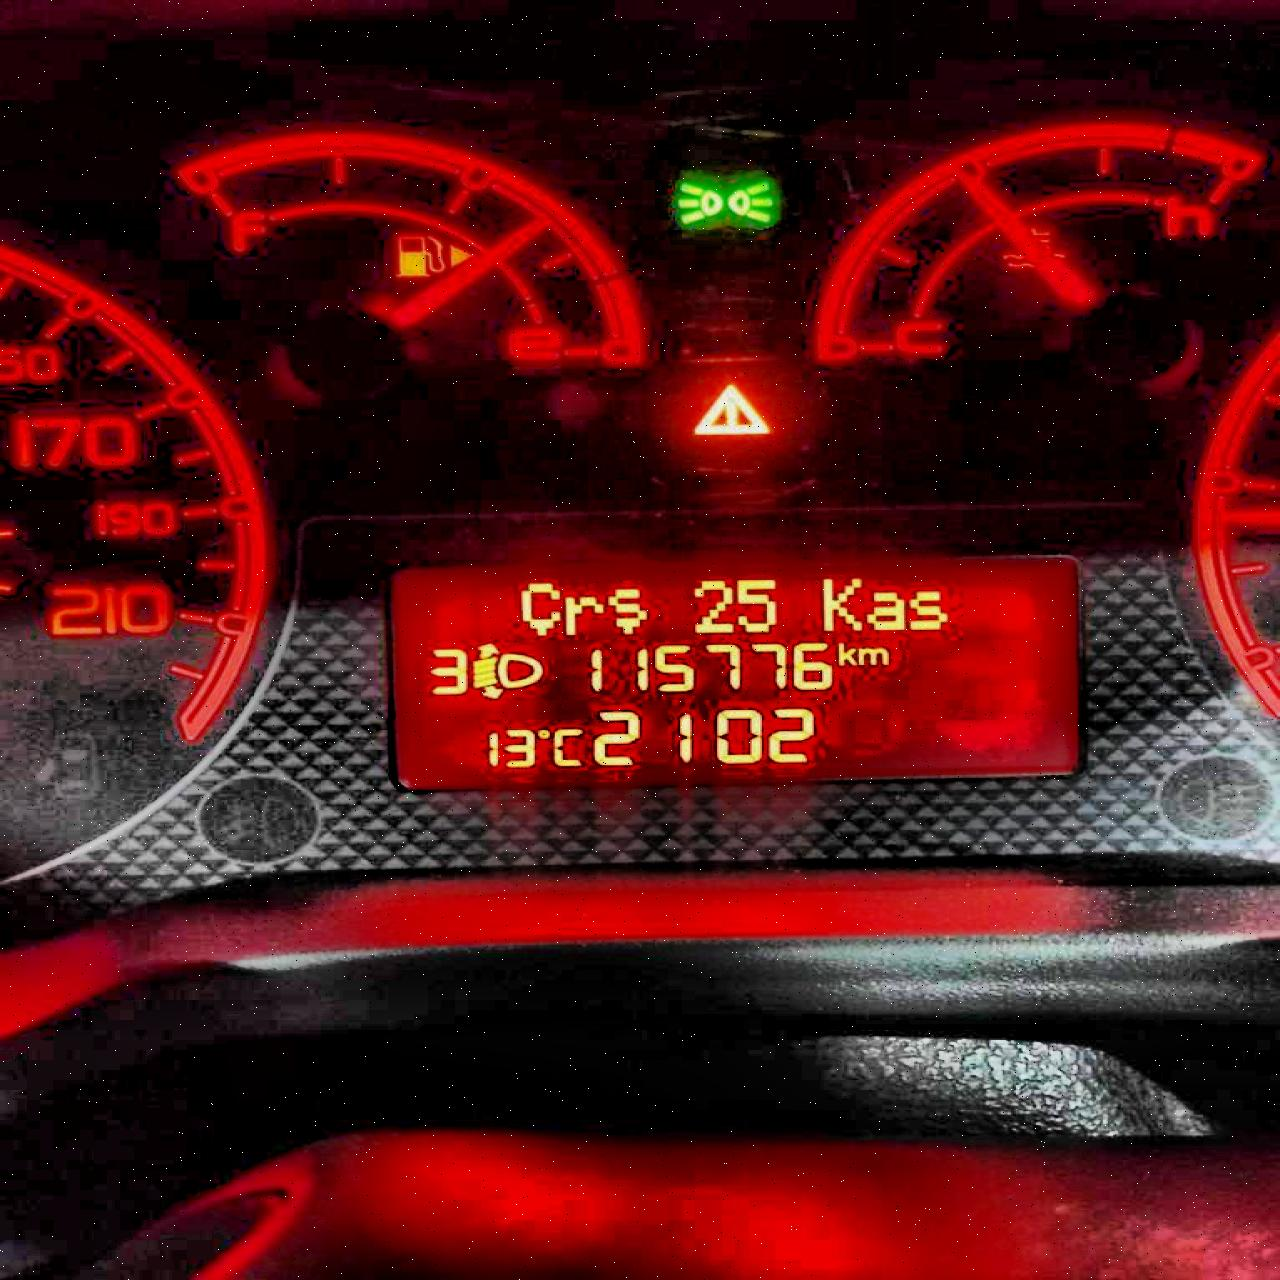0: (714, 708, 762, 763)
1: (676, 712, 693, 763), (633, 647, 649, 692), (588, 647, 602, 692), (484, 730, 499, 765)
2: (590, 709, 640, 765), (767, 707, 813, 762), (692, 578, 734, 633)
3: (428, 647, 468, 694), (503, 729, 535, 768)
5: (735, 578, 776, 633), (652, 644, 695, 693)
6: (790, 641, 832, 689)
7: (749, 642, 788, 688), (703, 642, 741, 689)
X: (821, 576, 864, 631), (518, 581, 560, 636), (605, 586, 648, 634), (906, 588, 949, 629), (865, 590, 906, 629), (563, 595, 602, 636), (550, 728, 584, 768), (856, 646, 887, 666), (836, 641, 856, 665)
odometer: (374, 545, 1088, 794)
